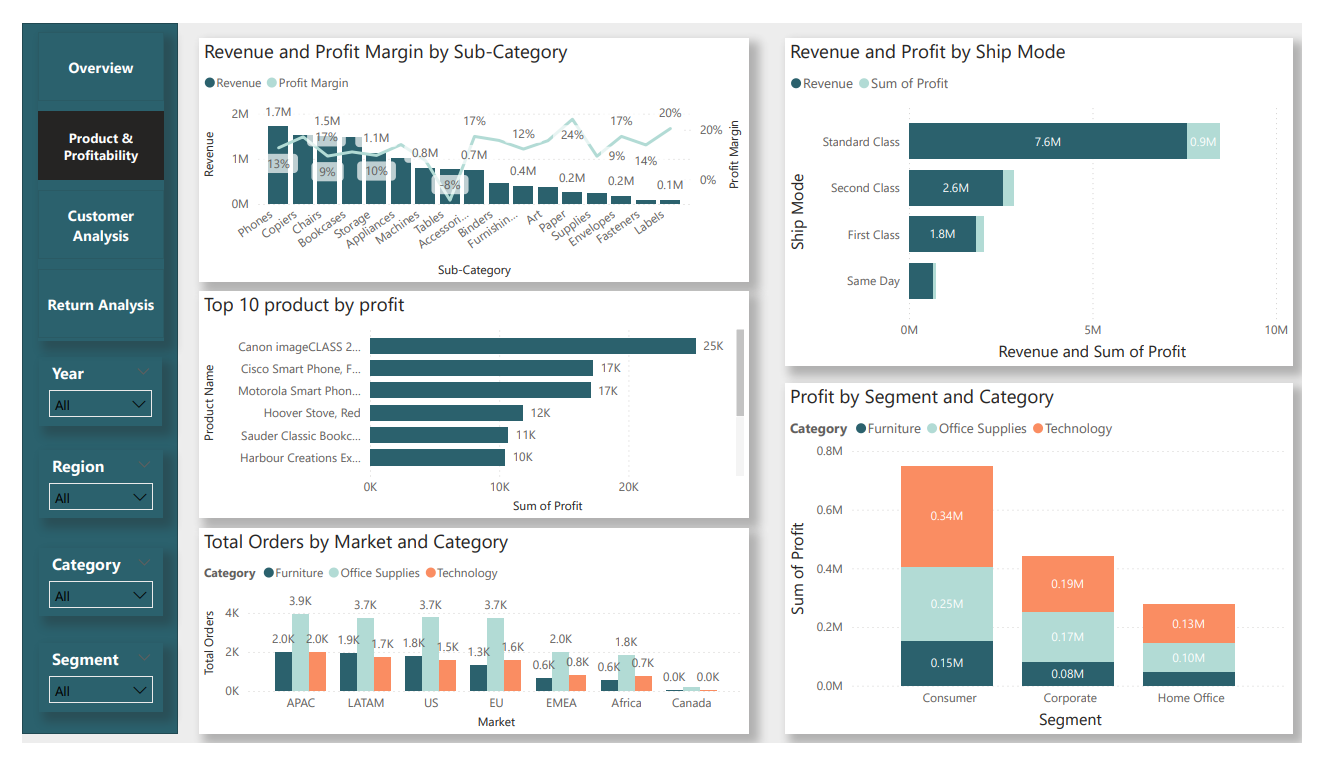

Layout of this report page (visuals, bound fields, positions):
{"tool":"powerbi","page":{"name":"Product and Profitability","canvas":[1280,720],"ordinal":1},"visuals":[{"type":"pageNavigator","box":[8.6,14.7,140.6,294.7],"z":0},{"type":"slicer","fields":{"Values":["DateTable.Year"]},"box":[7.3,333.8,139.4,68.5],"z":1000},{"type":"slicer","fields":{"Values":["Sales_data.Region"]},"box":[7.3,426.8,140,68],"z":2000},{"type":"slicer","fields":{"Values":["Sales_data.Category"]},"box":[7.3,524.6,140.6,68],"z":3000},{"type":"slicer","fields":{"Values":["Sales_data.Segment"]},"box":[7.3,620,140.6,68.5],"z":4000},{"type":"clusteredBarChart","title":"Top 10 product by profit","fields":{"Category":["Sales_data.Product Name"],"Y":["Sum(Sales_data.Profit)"]},"box":[177,267.6,550.3,227.8],"z":5000},{"type":"lineClusteredColumnComboChart","title":"Revenue and Profit Margin by Sub-Category","fields":{"Category":["Sales_data.Sub-Category"],"Y":["Sales_data.Revenue"],"Y2":["Sales_data.Profit Margin"]},"box":[177,15.1,550.3,244.3],"z":6000},{"type":"columnChart","title":"Profit by Segment and Category","fields":{"Category":["Sales_data.Segment"],"Y":["Sum(Sales_data.Profit)"],"Series":["Sales_data.Category"]},"box":[763,359.5,507.7,351.3],"z":7000},{"type":"barChart","title":"Revenue and Profit by Ship Mode","fields":{"Y":["Sales_data.Revenue","Sum(Sales_data.Profit)"],"Category":["Sales_data.Ship Mode"]},"box":[763,15.1,507.7,328],"z":8000},{"type":"clusteredColumnChart","fields":{"Category":["Sales_data.Market"],"Y":["Sales_data.Total Orders"],"Series":["Sales_data.Category"]},"box":[177,505,550,205.8],"z":9000}]}

Visuals, with their boxes in screenshot pixels (x1, y1, x2, y2), scaled from the page's 1280x720 canvas onto the 1323x763 screenshot:
pageNavigator: <bbox>9, 16, 154, 328</bbox>
slicer - DateTable.Year: <bbox>8, 354, 152, 426</bbox>
slicer - Sales_data.Region: <bbox>8, 452, 152, 524</bbox>
slicer - Sales_data.Category: <bbox>8, 556, 153, 628</bbox>
slicer - Sales_data.Segment: <bbox>8, 657, 153, 730</bbox>
"Top 10 product by profit" clusteredBarChart: <bbox>183, 284, 752, 525</bbox>
"Revenue and Profit Margin by Sub-Category" lineClusteredColumnComboChart: <bbox>183, 16, 752, 275</bbox>
"Profit by Segment and Category" columnChart: <bbox>789, 381, 1313, 753</bbox>
"Revenue and Profit by Ship Mode" barChart: <bbox>789, 16, 1313, 364</bbox>
clusteredColumnChart - Sales_data.Market x Sales_data.Total Orders: <bbox>183, 535, 751, 753</bbox>
